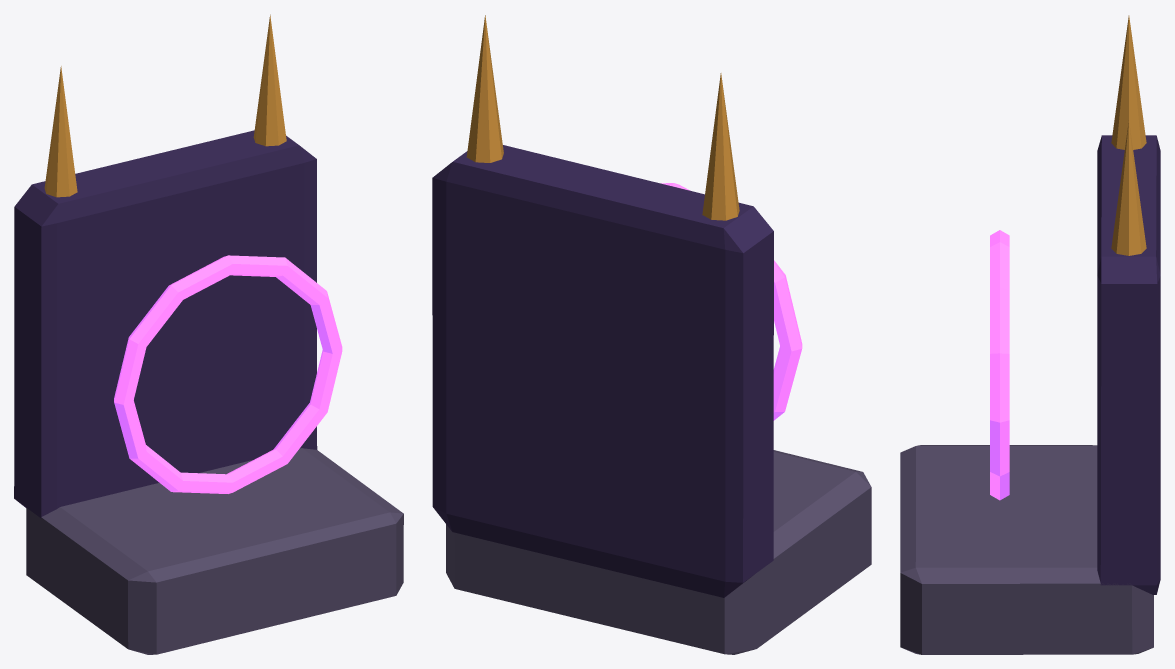
File: echo-throne.glb
3 views of the same model, side by side, from view 1: azimuth 30°, elevation 25°; view 2: azimuth 150°, elevation 25°; view 3: azimuth 270°, elevation 25° (orthographic). The views are drawn at different scales.
Visible parts, largest first — view 1: throne-back, throne-seat, throne-echo, throne-crown-spike-0, throne-crown-spike-1; view 2: throne-back, throne-seat, throne-crown-spike-0, throne-crown-spike-1, throne-echo; view 3: throne-seat, throne-back, throne-echo, throne-crown-spike-1, throne-crown-spike-0.
Part boxes in pixels (x1=…): throne-back: x1=14, y1=130, x2=317, y2=518; throne-seat: x1=26, y1=448, x2=403, y2=654; throne-echo: x1=114, y1=255, x2=342, y2=493; throne-crown-spike-0: x1=44, y1=66, x2=77, y2=197; throne-crown-spike-1: x1=253, y1=14, x2=286, y2=146; throne-back: x1=432, y1=145, x2=773, y2=597; throne-seat: x1=446, y1=450, x2=871, y2=654; throne-crown-spike-0: x1=702, y1=73, x2=739, y2=220; throne-crown-spike-1: x1=466, y1=15, x2=503, y2=162; throne-echo: x1=661, y1=183, x2=802, y2=420; throne-seat: x1=900, y1=445, x2=1153, y2=654; throne-back: x1=1097, y1=135, x2=1160, y2=594; throne-echo: x1=990, y1=230, x2=1009, y2=500; throne-crown-spike-1: x1=1111, y1=120, x2=1146, y2=255; throne-crown-spike-0: x1=1111, y1=15, x2=1146, y2=149.
Size of the model in its own units: 1.45 by 2.57 by 1.15.
